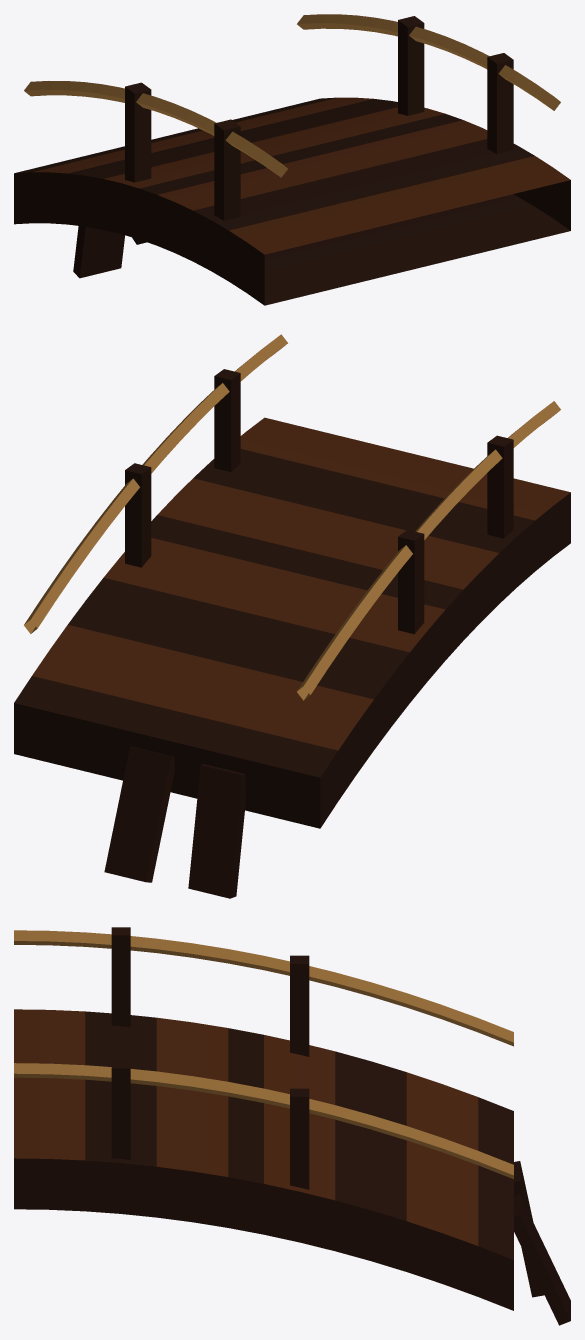
Rendered from MODULE_DESERT_BRIDGE_BROKEN.fbx.
3 views of the same model, one above another, from view 1: azimuth 30°, elevation 25°; view 2: azimuth 150°, elevation 25°; view 3: azimuth 270°, elevation 25° (orthographic).
Visible parts, largest first — view 1: MODULE_DESERT_BRIDGE_BROKEN__export, MODULE_DESERT_BRIDGE_BROKEN_DECOR__export; view 2: MODULE_DESERT_BRIDGE_BROKEN__export, MODULE_DESERT_BRIDGE_BROKEN_DECOR__export; view 3: MODULE_DESERT_BRIDGE_BROKEN__export, MODULE_DESERT_BRIDGE_BROKEN_DECOR__export.
Boxes of the visible parts, x1,y1,x2,y2 form: MODULE_DESERT_BRIDGE_BROKEN__export: (14,97,570,305); MODULE_DESERT_BRIDGE_BROKEN_DECOR__export: (24,14,560,278); MODULE_DESERT_BRIDGE_BROKEN__export: (14,417,570,828); MODULE_DESERT_BRIDGE_BROKEN_DECOR__export: (24,334,560,898); MODULE_DESERT_BRIDGE_BROKEN__export: (14,1009,513,1310); MODULE_DESERT_BRIDGE_BROKEN_DECOR__export: (14,927,570,1325).
Bounding box in the file's own units: 22 × 21.93 × 34.74.
